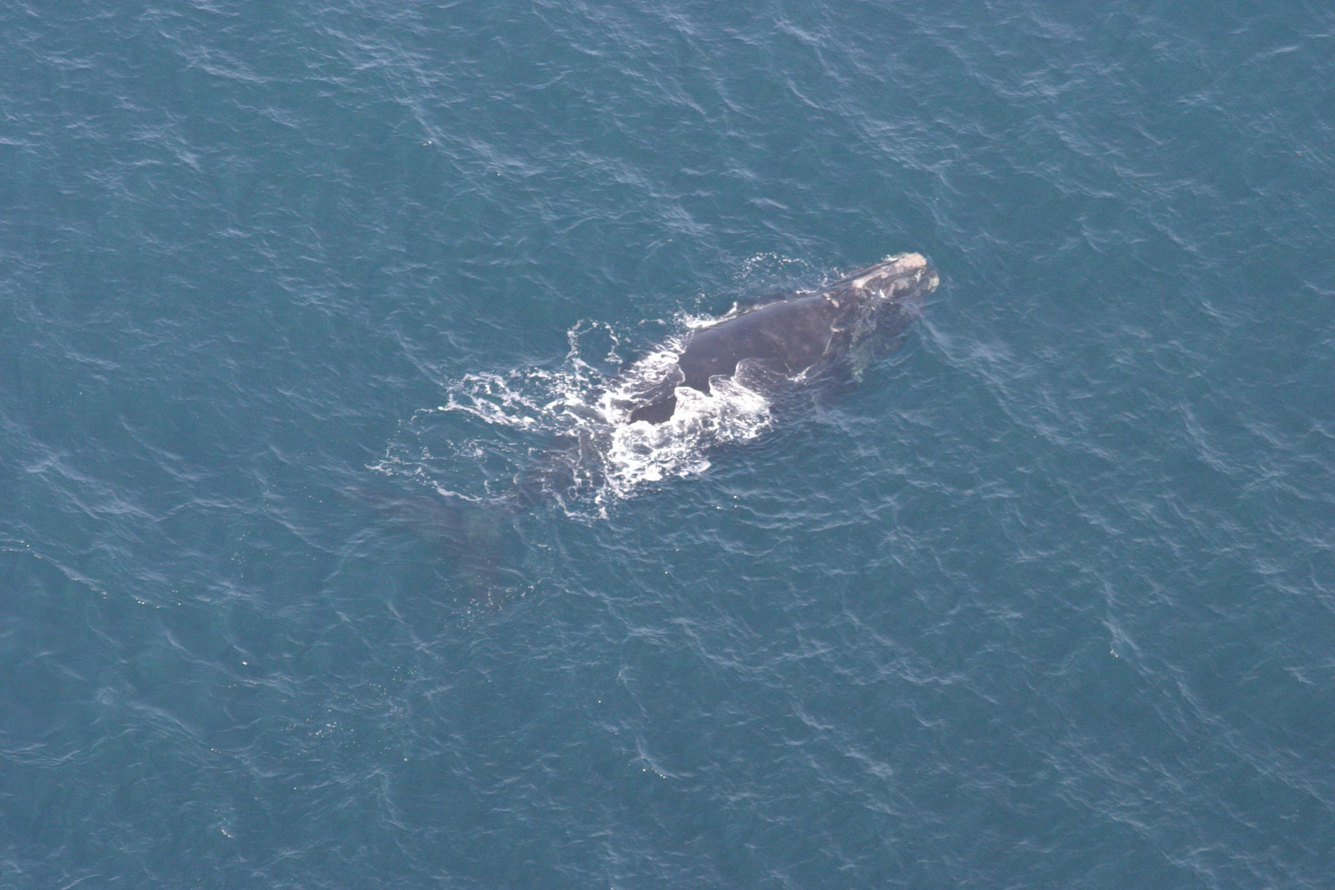whale: (319, 246, 950, 628)
